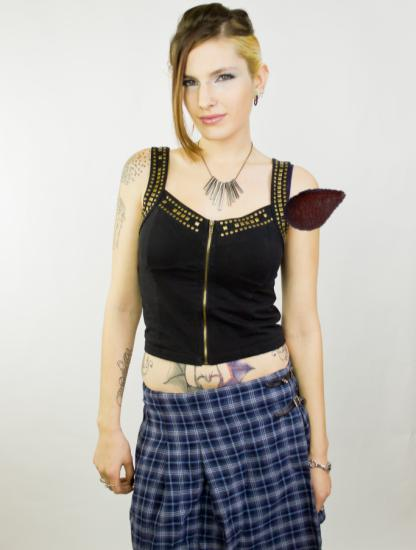Salak: (278, 173, 349, 244)
